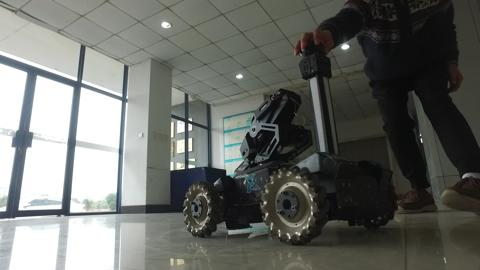chariot: (174, 36, 402, 250)
